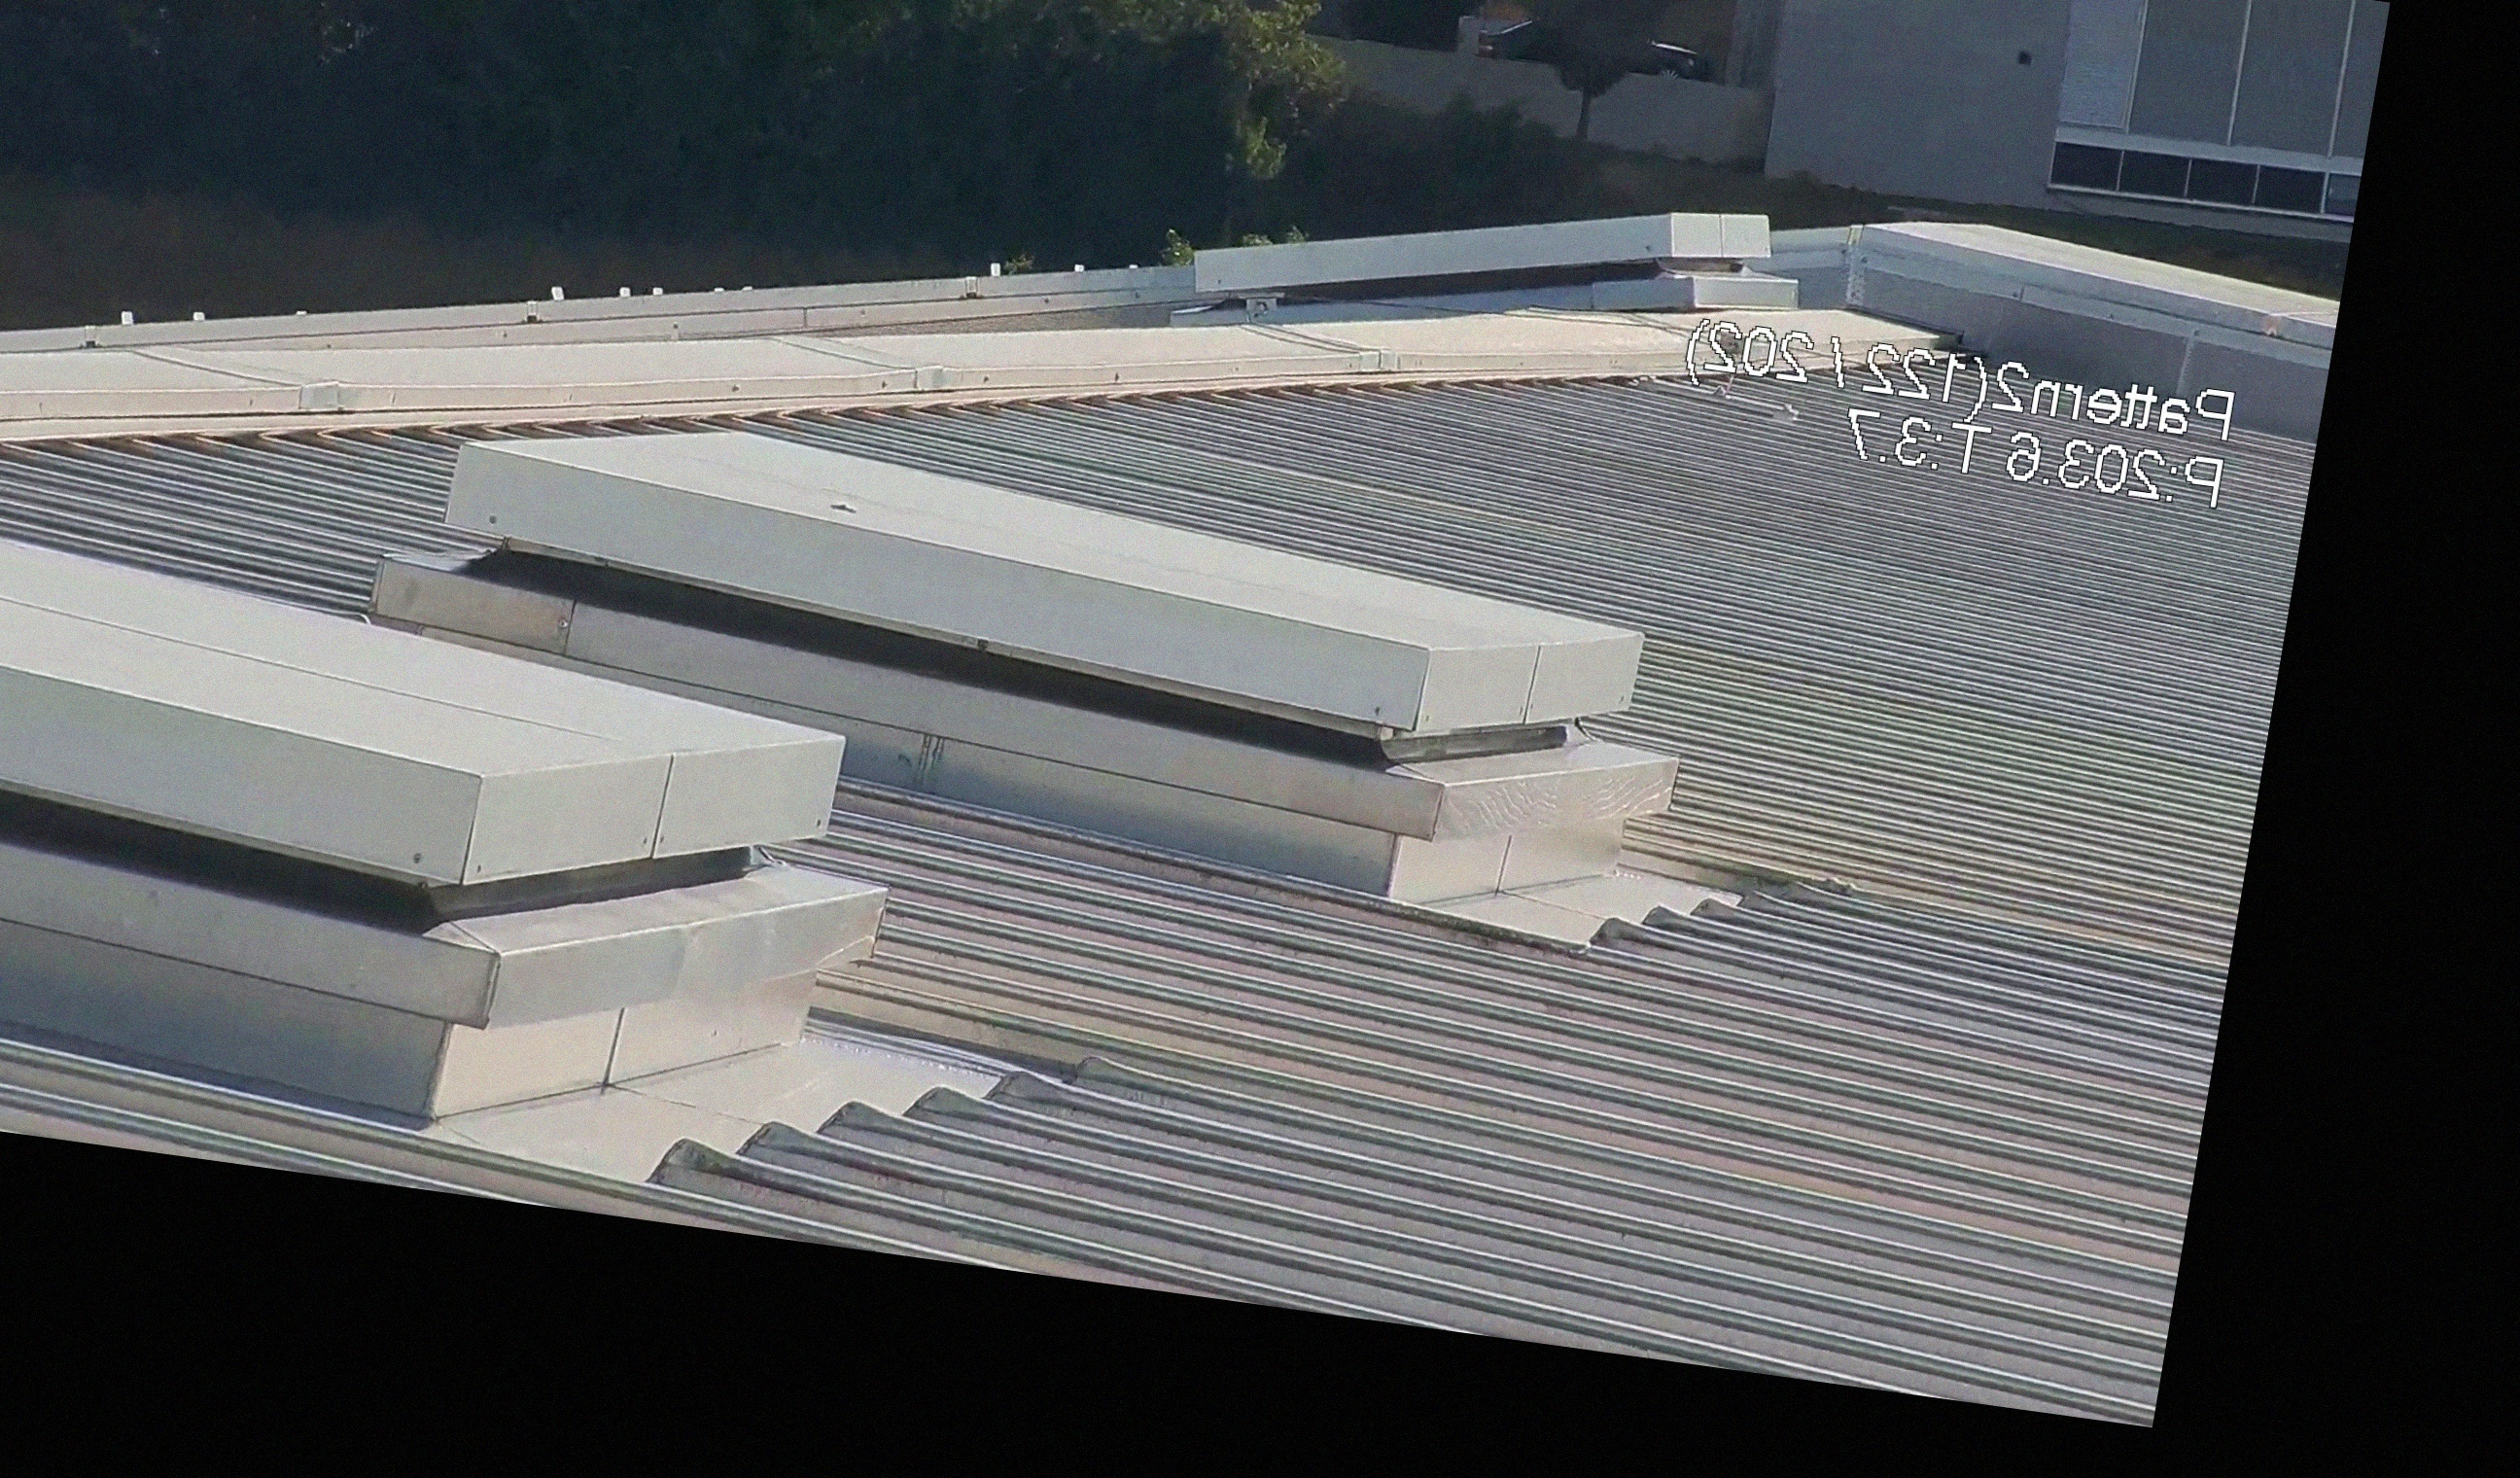Other: (1460, 0, 1718, 143)
